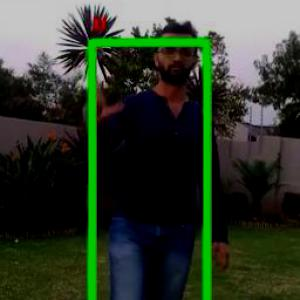land_hand: (84, 77, 126, 121)
